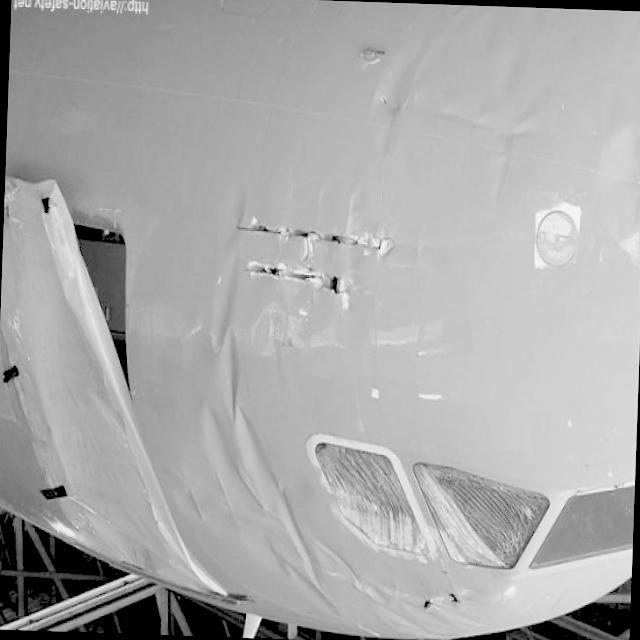crack: (228, 211, 400, 309)
